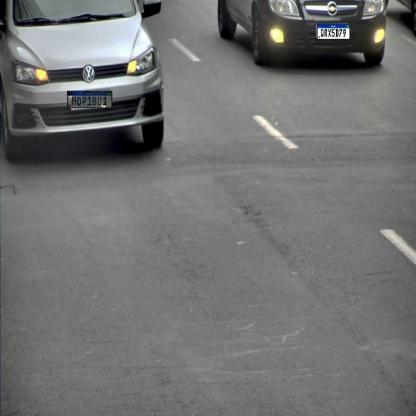PlacaM: (67, 91, 112, 108), (317, 23, 350, 40)
